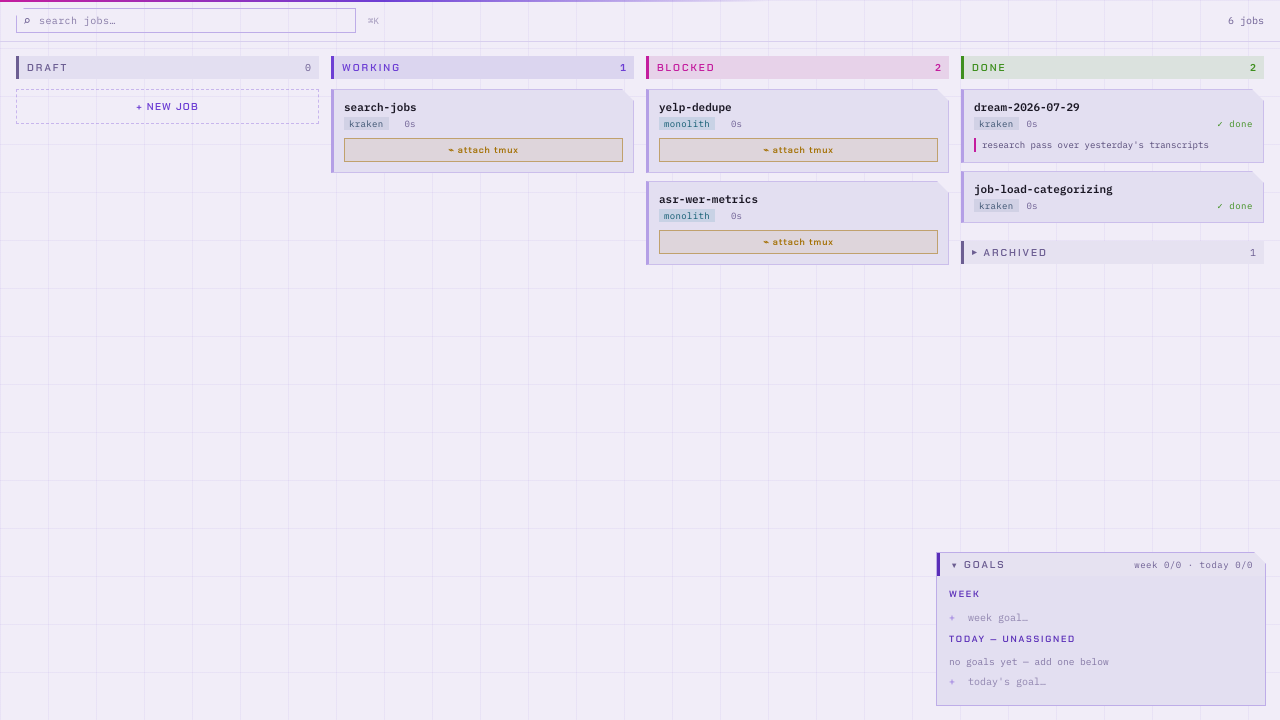
Test: the search bar › keeps only the matching cards, and counts them
Type "search" into the field with id "job-search" at (186, 20), box [16,8,356,33]
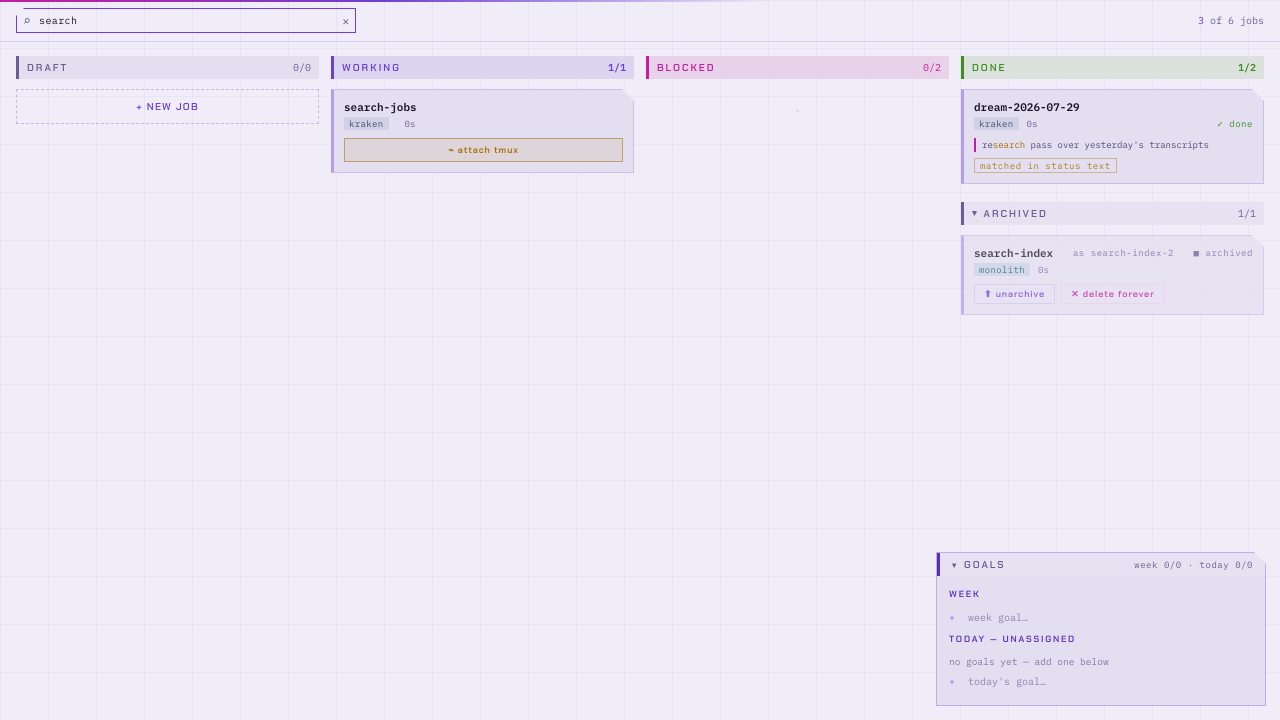
Check: the element with class "bb-read" reads "3 of 6 jobs", box [1198,13,1264,28]
